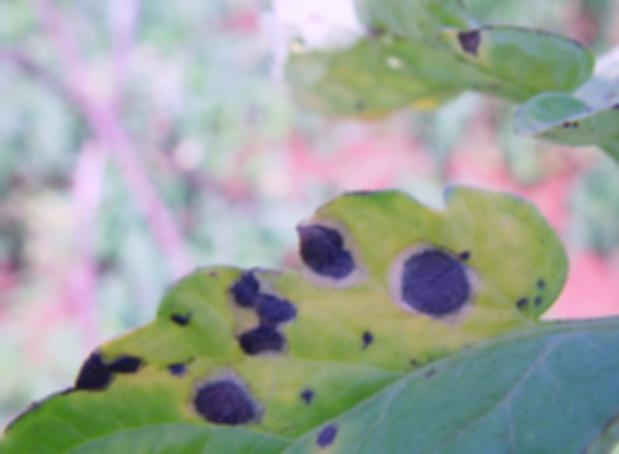Tomato Early blight leaf: (0, 182, 619, 454), (434, 25, 589, 101)
